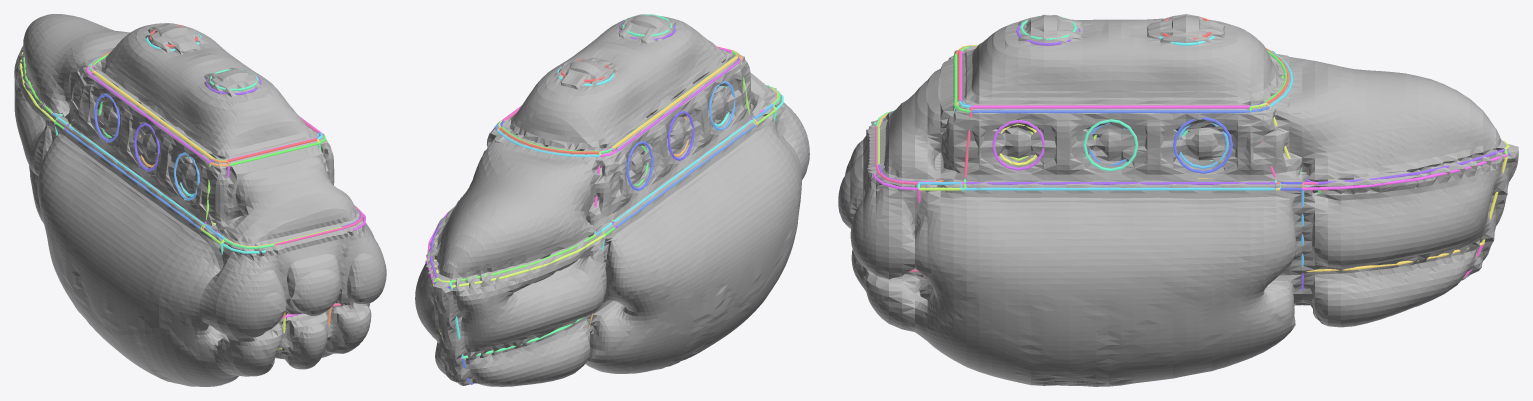
Rendered from onshape_boat.gltf.
3 renders of one model, left to right at view 1: azimuth 30°, elevation 25°; view 2: azimuth 150°, elevation 25°; view 3: azimuth 270°, elevation 25°, orthographic. The views are drawn at different scales.
Bounding box in the file's own units: 0.4235 × 0.5146 × 0.9412.
